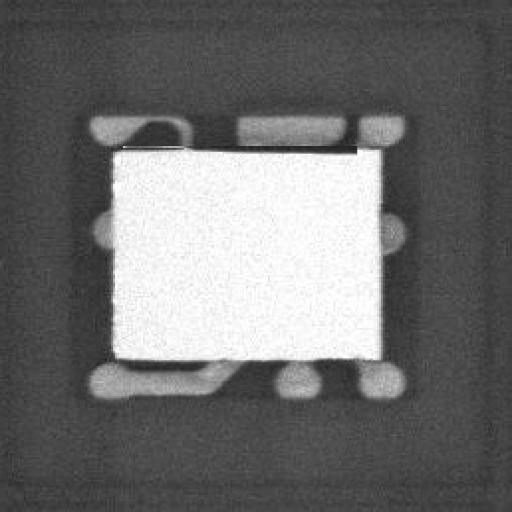DIE_BROKEN: (187, 138, 361, 156)
